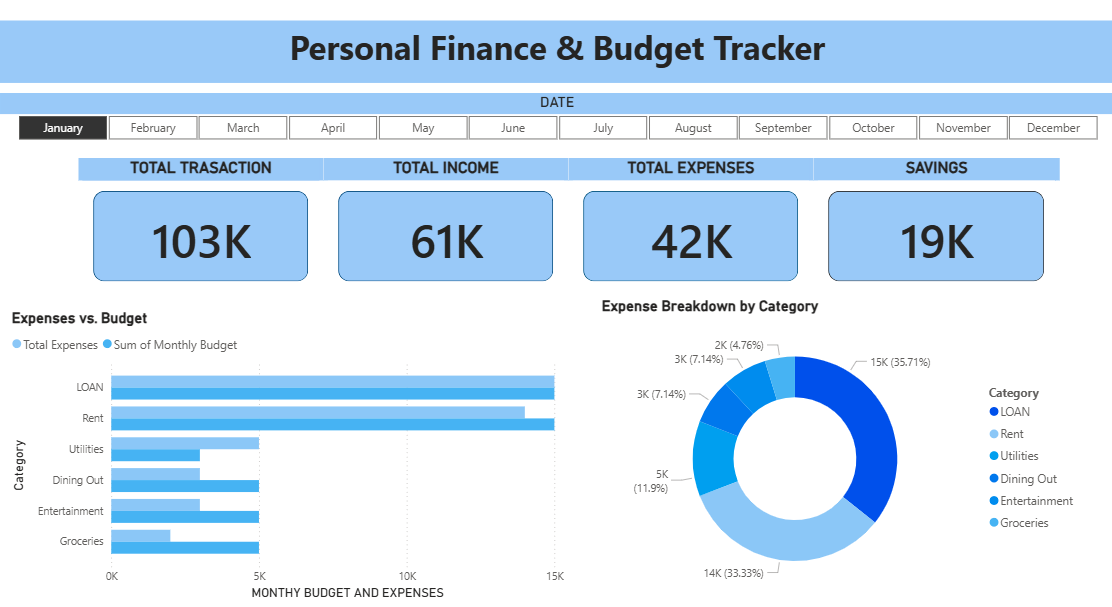

The dashboard page shown, as its layout file describes it:
{"tool":"powerbi","page":{"name":"Page 1","canvas":[1280,720],"ordinal":0},"visuals":[{"type":"cardVisual","title":"TOTAL TRASACTION ","fields":{"Data":["Sum(Transactions.Amount)"]},"box":[71.4,130,278.6,158.6],"z":0},{"type":"cardVisual","title":"TOTAL EXPENSES","fields":{"Data":["Transactions.Total Expenses"]},"box":[630,130,280,158.6],"z":1000},{"type":"cardVisual","title":"SAVINGS","fields":{"Data":["Transactions.Savings"]},"box":[910,130,280,158.6],"z":2000},{"type":"donutChart","title":"Expense Breakdown by Category","fields":{"Category":["Transactions.Category"],"Y":["Transactions.Total Expenses"]},"box":[744.3,360,445.7,280],"z":3000},{"type":"clusteredBarChart","title":"Expenses vs. Budget","fields":{"Category":["Budgets.Category"],"Y":["Transactions.Total Expenses","Sum(Budgets.Monthly Budget)"]},"box":[71.4,360,672.9,280],"z":4000},{"type":"textbox","box":[0,31.4,1280,71.4],"z":4002},{"type":"cardVisual","title":"TOTAL INCOME","fields":{"Data":["Transactions.Total income"]},"box":[350,130,280,158.6],"z":4003},{"type":"slicer","fields":{"Values":["Transactions.Date.Variation.Date Hierarchy.Month"]},"box":[0,31.4,265.7,60],"z":4004}]}

Visuals, with their boxes on the page's 1280x720 design canvas (x1, y1, x2, y2). These are canvas units, not pixel positions in the 1112x607 screenshot, which may show the page scaled, cropped or inside an application window:
"TOTAL TRASACTION " cardVisual: box(71, 130, 350, 289)
"TOTAL EXPENSES" cardVisual: box(630, 130, 910, 289)
"SAVINGS" cardVisual: box(910, 130, 1190, 289)
"Expense Breakdown by Category" donutChart: box(744, 360, 1190, 640)
"Expenses vs. Budget" clusteredBarChart: box(71, 360, 744, 640)
textbox: box(0, 31, 1280, 103)
"TOTAL INCOME" cardVisual: box(350, 130, 630, 289)
slicer - Transactions.Date.Variation.Date Hierarchy.Month: box(0, 31, 266, 91)
